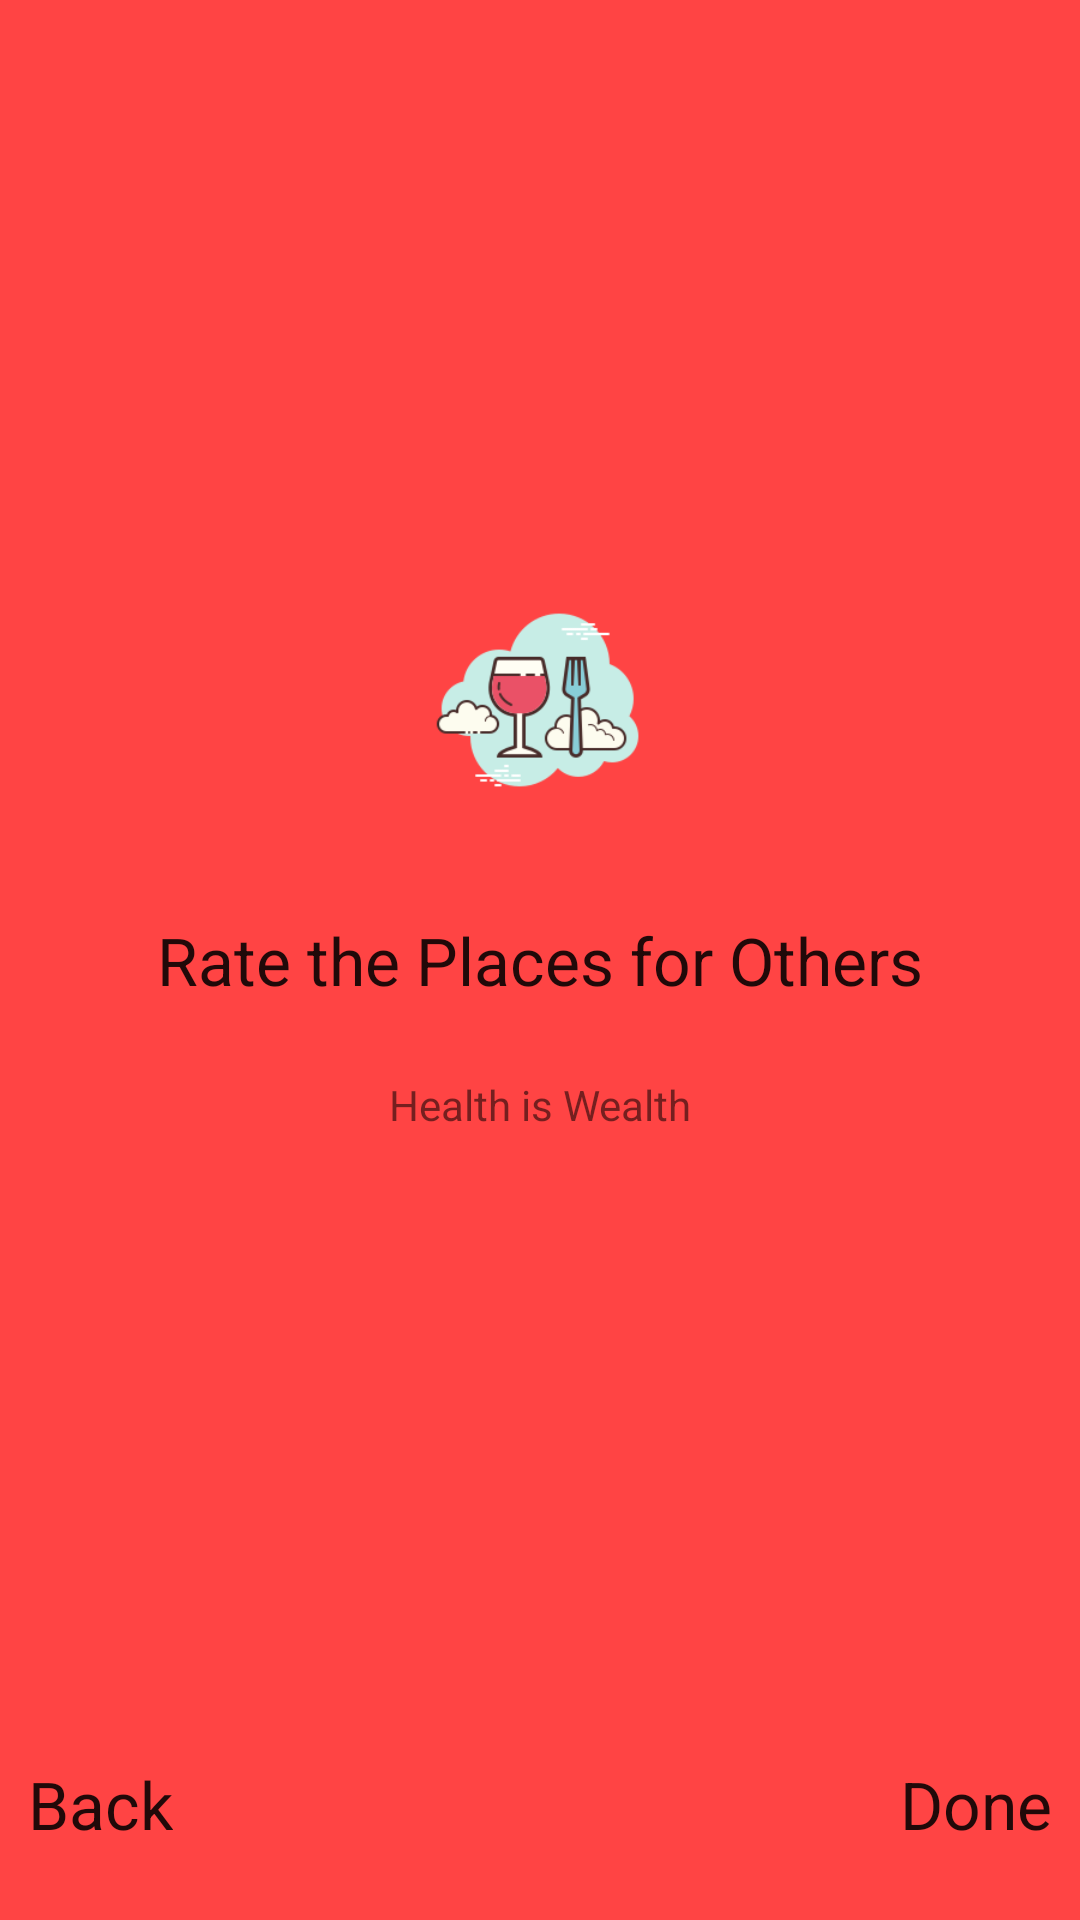

Icon click points for this 1080w x 1920h phone screenshot, format (x=x, y=y):
food: (x=537, y=700)
